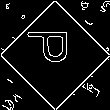P_E: (30, 37, 80, 73)
